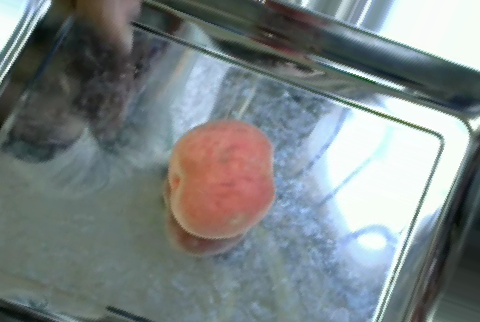Peach: (165, 117, 275, 238)
